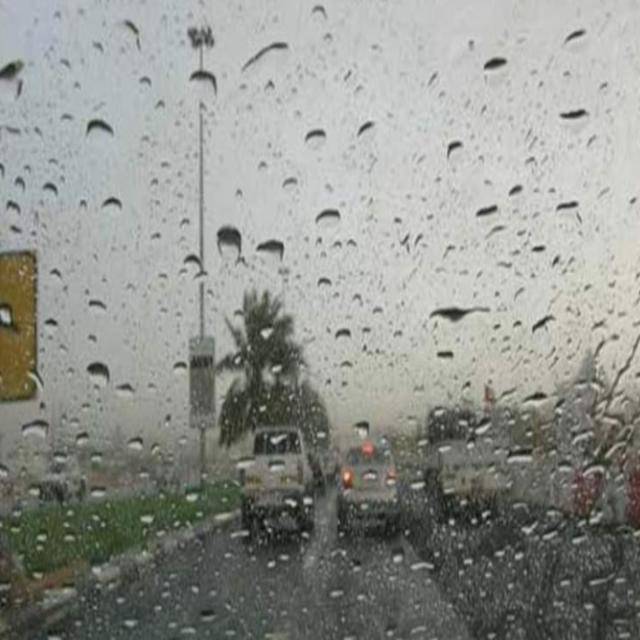bus: (421, 404, 511, 527)
car: (239, 432, 317, 529), (338, 439, 399, 534), (36, 456, 88, 507)
